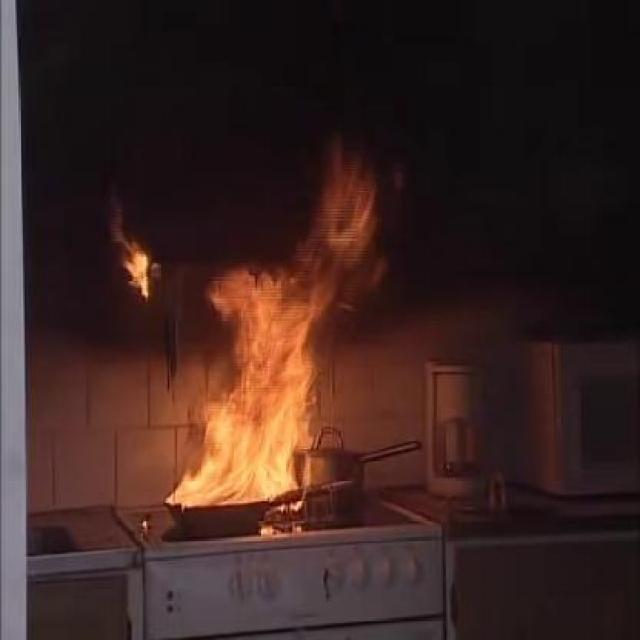fire: (204, 256, 316, 498)
smoke: (328, 122, 420, 290), (128, 113, 258, 220)
